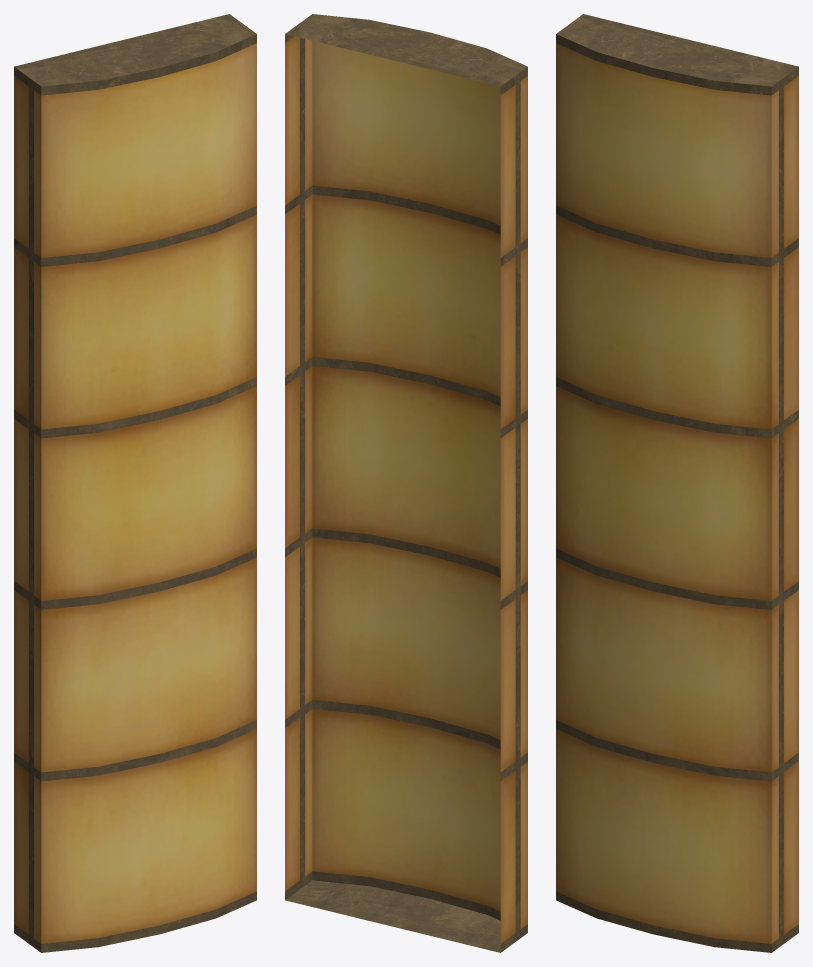
Rendered from p6_light_karma_column_short_lod1.glb.
The picture shows the model from 3 angles, left to right: view 1: azimuth 30°, elevation 25°; view 2: azimuth 150°, elevation 25°; view 3: azimuth 330°, elevation 25°; orthographic projection.
Visible parts, largest first — view 1: surf1, surf0; view 2: surf1, surf0; view 3: surf1, surf0.
Part boxes in pixels (left/top/right/bottom): surf1: left=14, top=43, right=256, bottom=943; surf0: left=14, top=14, right=256, bottom=952; surf1: left=285, top=36, right=527, bottom=943; surf0: left=285, top=14, right=527, bottom=952; surf1: left=556, top=43, right=798, bottom=943; surf0: left=556, top=14, right=798, bottom=952.
Size of the model in its own units: 25 by 96 by 7.62.
